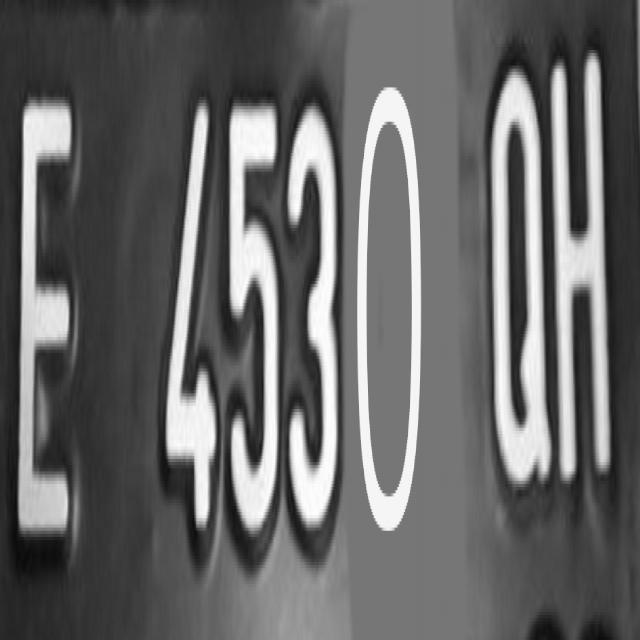0: (358, 73, 428, 546)
3: (276, 85, 346, 564)
4: (153, 93, 224, 560)
5: (228, 95, 280, 542)
E: (8, 78, 88, 574)
H: (540, 55, 622, 476)
Q: (481, 63, 558, 488)
